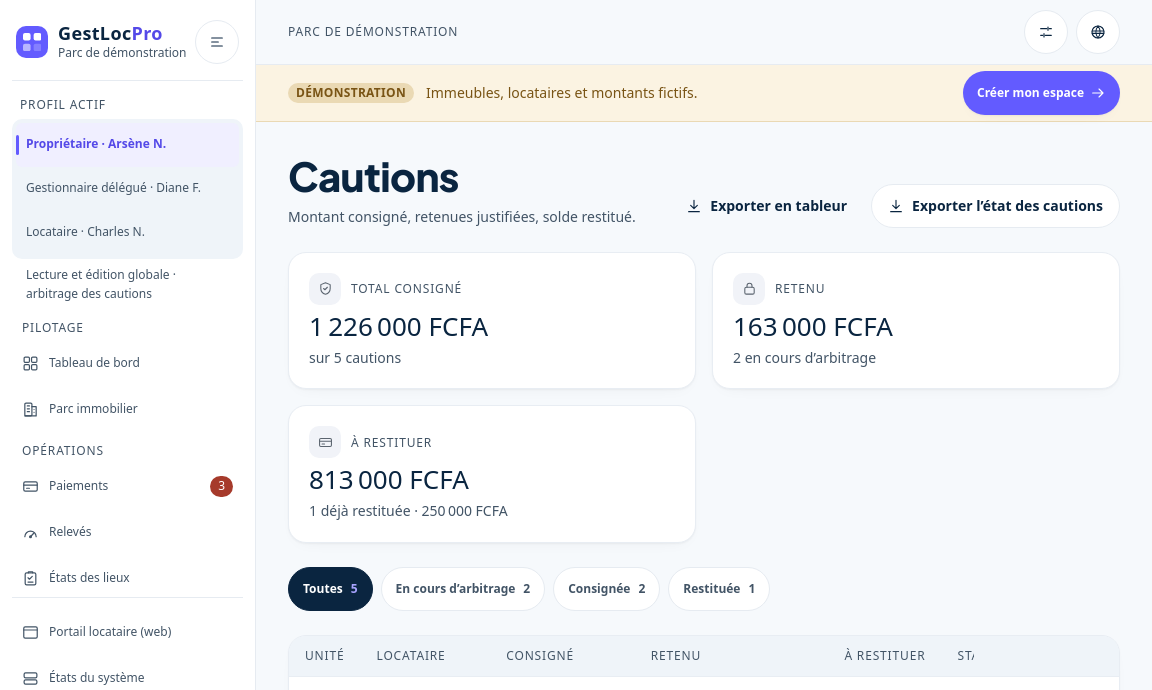
le pied qui somme la colonne qu’il somme › dit sur combien de lignes il somme, et sur combien en tout
This screenshot has width=1152, height=690.
Click the button "En cours d’arbitrage 2" at (463, 589), box [381,567,545,611]
(page scrolled)
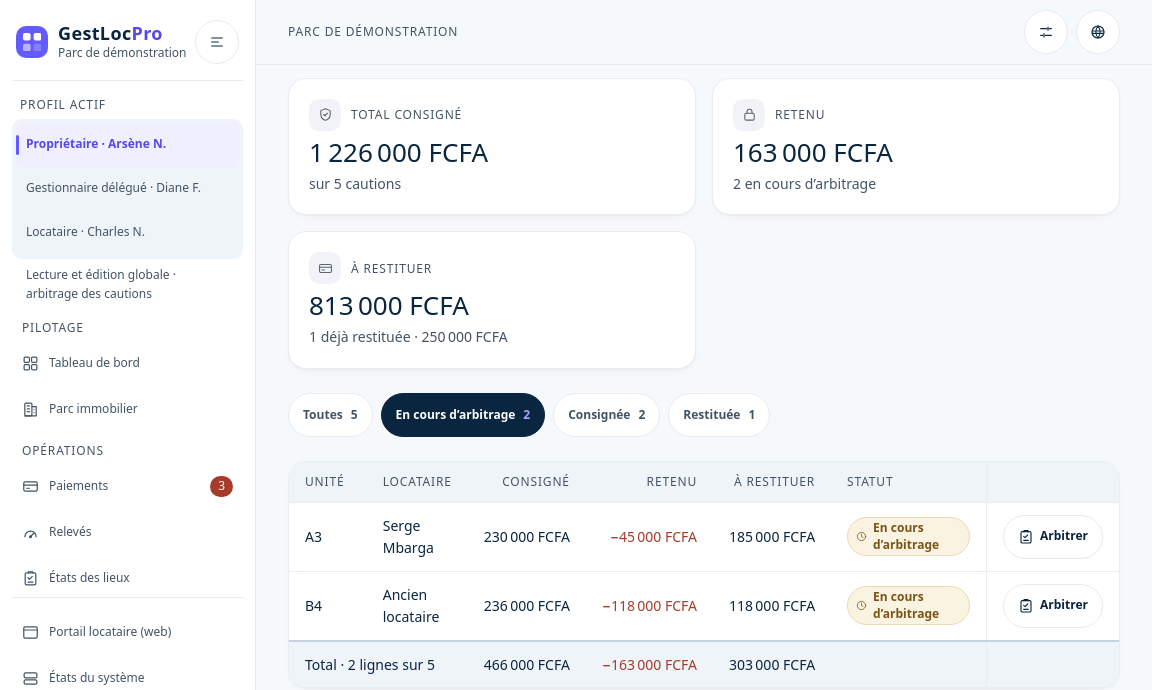
Check: the column heading "Total · 2 lignes sur 5" is shown, box [289,641,468,687]
